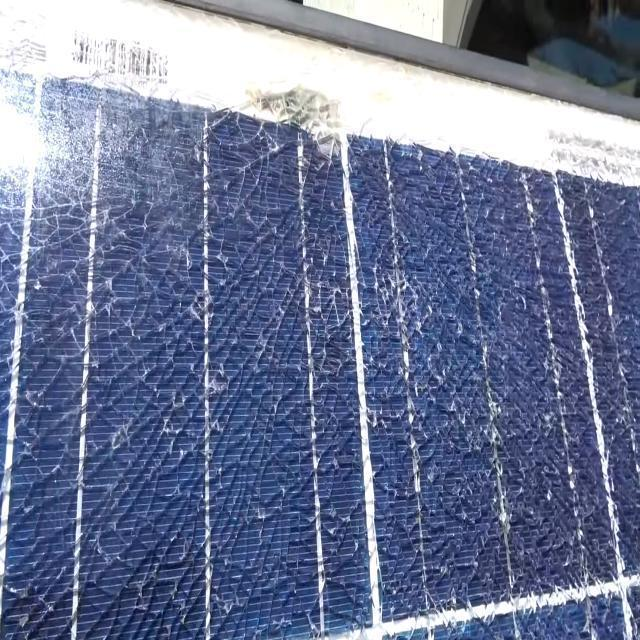Anomaly Solar Panel: (2, 0, 636, 639)
Structural Damage: (46, 203, 316, 622), (314, 246, 592, 640), (177, 46, 385, 228), (0, 65, 153, 254)
